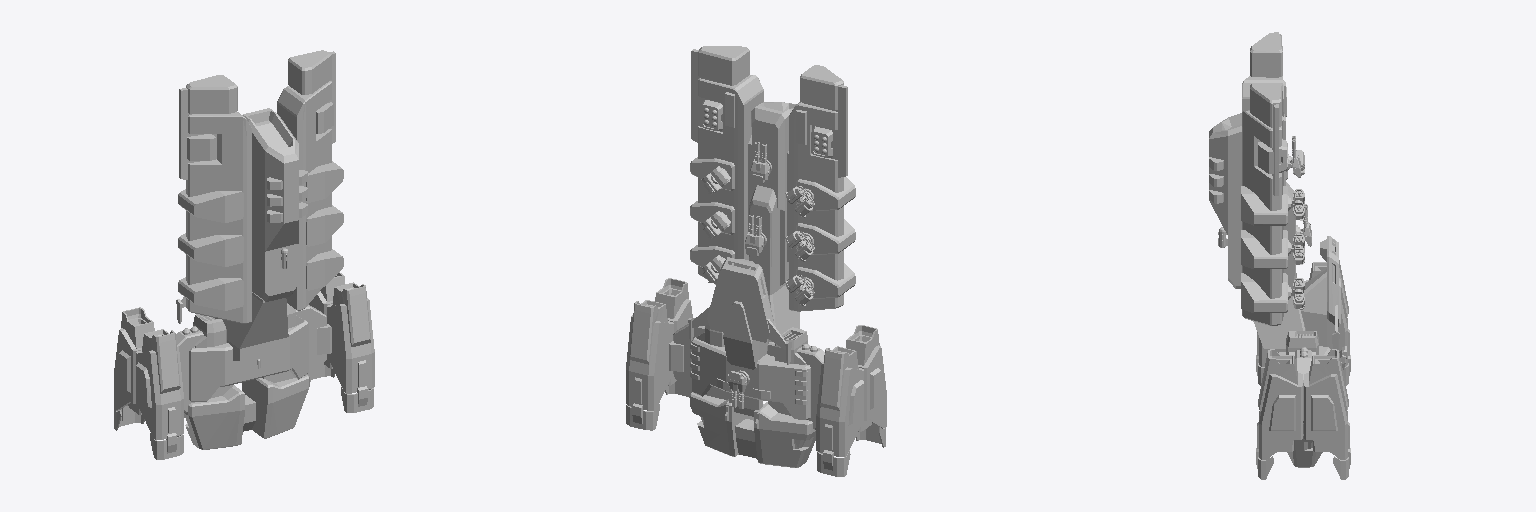
File: _battleship.obj
The picture shows the model from 3 angles: view 1: azimuth 30°, elevation 25°; view 2: azimuth 150°, elevation 25°; view 3: azimuth 270°, elevation 25°; orthographic projection.
Visible parts, largest first — view 1: _battleship; view 2: _battleship; view 3: _battleship.
Part boxes in pixels (x1,y1,x2,y2): _battleship: (114,50,374,459); _battleship: (626,46,886,476); _battleship: (1209,32,1350,479).
Bounding box in the file's own units: 3.6 × 5.78 × 1.97.